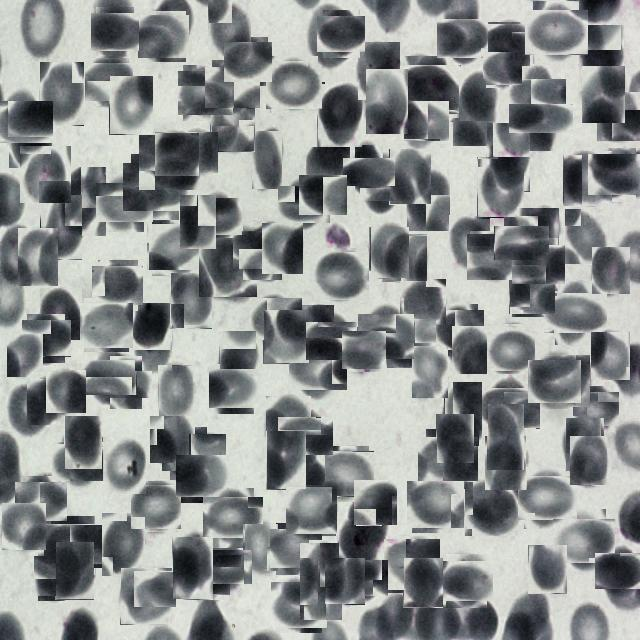red blood cell: (56, 167, 106, 237), (140, 134, 200, 192), (199, 238, 257, 297), (126, 158, 184, 216), (299, 543, 342, 621), (400, 61, 457, 118), (7, 376, 57, 438), (578, 25, 624, 92), (486, 123, 530, 192), (19, 146, 71, 204), (317, 82, 362, 148), (530, 5, 584, 60), (266, 396, 311, 462), (120, 568, 172, 625), (520, 471, 574, 525), (464, 482, 518, 536), (384, 538, 438, 592), (39, 62, 84, 126), (477, 157, 524, 218), (101, 513, 145, 577), (481, 382, 534, 435), (422, 432, 474, 486), (210, 90, 255, 152), (406, 169, 450, 232), (558, 514, 610, 567), (9, 104, 52, 168), (563, 151, 612, 207), (366, 69, 408, 134), (549, 287, 601, 339), (268, 58, 320, 110), (410, 478, 462, 530), (316, 250, 368, 302), (149, 221, 201, 273), (47, 520, 99, 572), (41, 195, 82, 260), (208, 0, 251, 61), (321, 448, 372, 499), (208, 492, 258, 544), (274, 578, 324, 630), (109, 76, 153, 135), (172, 537, 213, 600), (308, 5, 348, 69), (102, 437, 146, 495), (361, 312, 412, 362), (294, 344, 344, 394), (180, 68, 230, 118), (468, 232, 518, 282), (386, 318, 436, 368), (82, 300, 132, 350), (263, 310, 309, 364), (444, 382, 482, 447), (564, 209, 608, 265), (582, 66, 625, 123), (287, 486, 337, 535), (0, 97, 49, 147), (358, 42, 400, 100), (238, 226, 287, 275), (266, 431, 306, 490), (170, 273, 212, 329), (100, 178, 149, 226), (209, 63, 257, 112), (389, 149, 431, 205), (488, 404, 524, 469), (18, 228, 58, 286), (132, 482, 180, 530), (251, 295, 299, 343), (442, 557, 490, 605), (530, 358, 578, 406), (140, 12, 188, 60), (591, 151, 639, 199), (178, 452, 226, 500), (449, 214, 490, 270), (486, 436, 528, 490), (55, 542, 94, 600), (487, 324, 534, 372), (517, 207, 559, 260), (359, 159, 406, 206), (516, 240, 562, 288), (149, 416, 195, 464), (596, 92, 640, 142), (452, 95, 494, 147), (40, 288, 82, 340), (282, 413, 329, 459), (382, 234, 427, 282), (55, 439, 101, 485), (435, 307, 481, 353), (95, 262, 141, 308), (18, 479, 64, 525), (400, 278, 446, 324), (274, 526, 320, 572), (518, 96, 564, 142), (308, 318, 354, 364), (306, 147, 350, 195), (565, 418, 604, 472), (262, 223, 303, 274), (370, 227, 410, 279), (36, 552, 81, 598), (498, 220, 544, 265), (2, 503, 46, 550), (64, 416, 102, 470), (179, 195, 216, 250), (440, 15, 485, 60), (281, 182, 326, 227), (166, 431, 211, 476), (202, 545, 247, 590), (302, 172, 346, 218), (403, 558, 443, 608), (515, 72, 560, 116), (24, 316, 68, 361), (226, 39, 270, 84), (212, 366, 256, 411), (353, 480, 398, 524), (590, 332, 630, 381), (485, 23, 529, 67), (88, 60, 132, 104), (195, 194, 239, 238), (184, 554, 228, 598), (340, 556, 384, 600), (88, 356, 132, 400), (154, 132, 198, 176), (324, 558, 365, 605), (219, 331, 256, 383), (528, 545, 567, 594), (569, 436, 607, 486), (436, 414, 474, 464), (510, 272, 554, 315), (158, 364, 193, 418), (132, 303, 172, 350), (554, 355, 590, 407), (286, 451, 325, 499), (412, 346, 448, 398), (104, 362, 148, 404), (598, 550, 640, 594), (404, 100, 448, 142), (459, 73, 497, 121), (188, 434, 226, 482), (320, 13, 363, 55), (343, 328, 385, 371), (94, 10, 136, 53), (592, 247, 630, 294), (135, 323, 172, 371), (299, 305, 334, 355), (252, 131, 282, 189), (242, 524, 278, 572), (178, 132, 220, 173), (46, 370, 86, 413), (348, 151, 389, 192), (452, 326, 487, 374), (27, 379, 63, 425), (576, 389, 616, 429), (7, 334, 43, 377), (136, 569, 174, 608), (485, 50, 521, 87)
ring: (338, 518, 382, 567)
